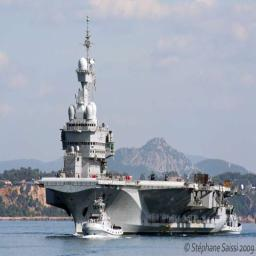Portanaves: (41, 22, 237, 238)
